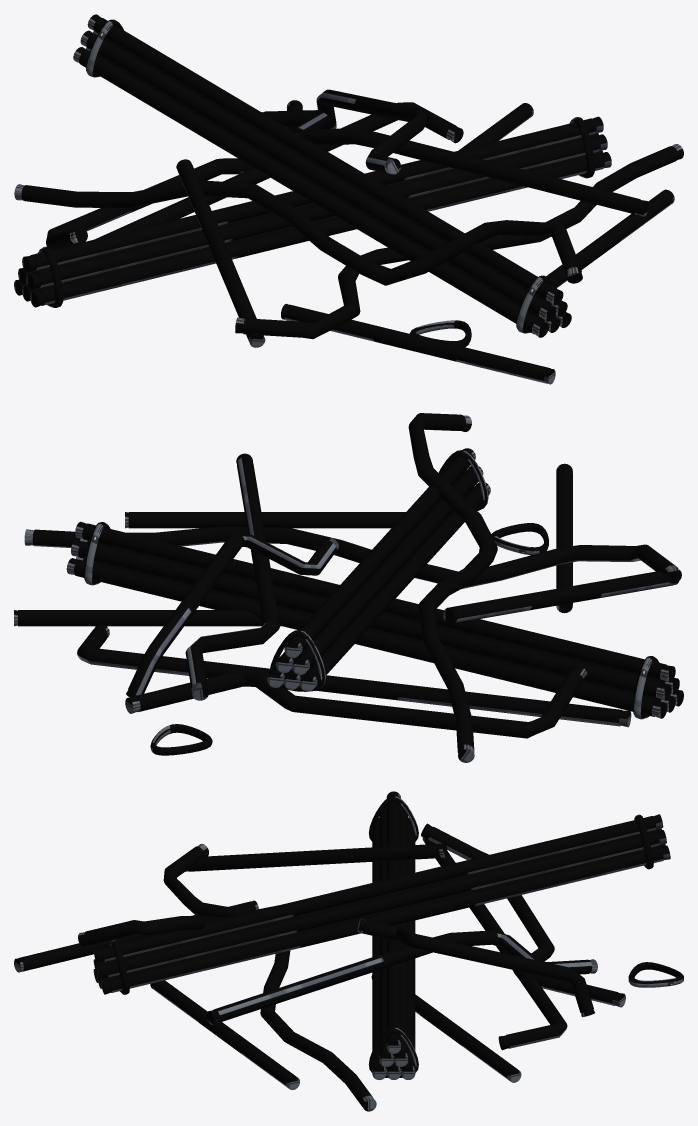
The model's file is debris.fbx.
The picture shows the model from 3 angles, top to bottom: view 1: azimuth 30°, elevation 25°; view 2: azimuth 150°, elevation 25°; view 3: azimuth 270°, elevation 25°; orthographic projection. The views are drawn at different scales.
Visible parts, largest first — view 1: debris; view 2: debris; view 3: debris.
Part boxes in pixels (x1=…): debris: x1=14, y1=14, x2=683, y2=384; debris: x1=14, y1=413, x2=683, y2=762; debris: x1=14, y1=791, x2=683, y2=1111.
Size of the model in its own units: 458 by 91.85 by 465.
